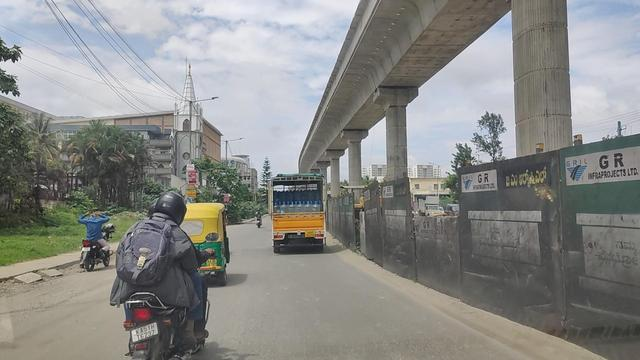HMV: (269, 166, 330, 256)
LMV: (113, 184, 209, 360), (139, 196, 229, 295)
